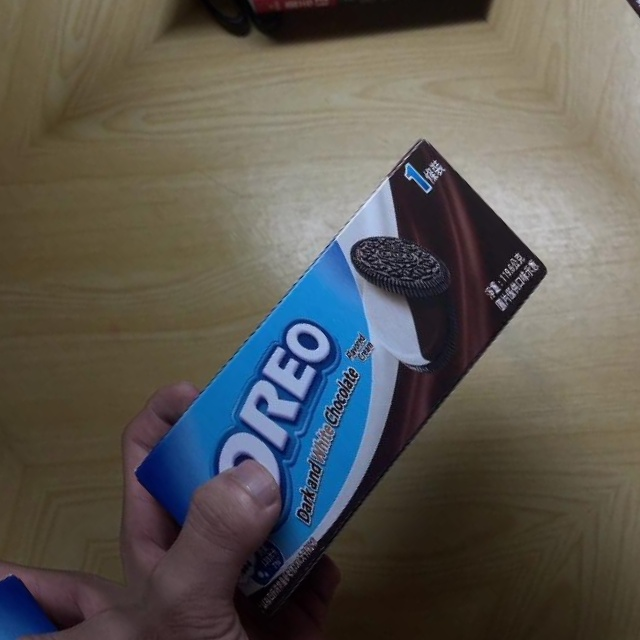Oreo: (83, 126, 597, 616)
